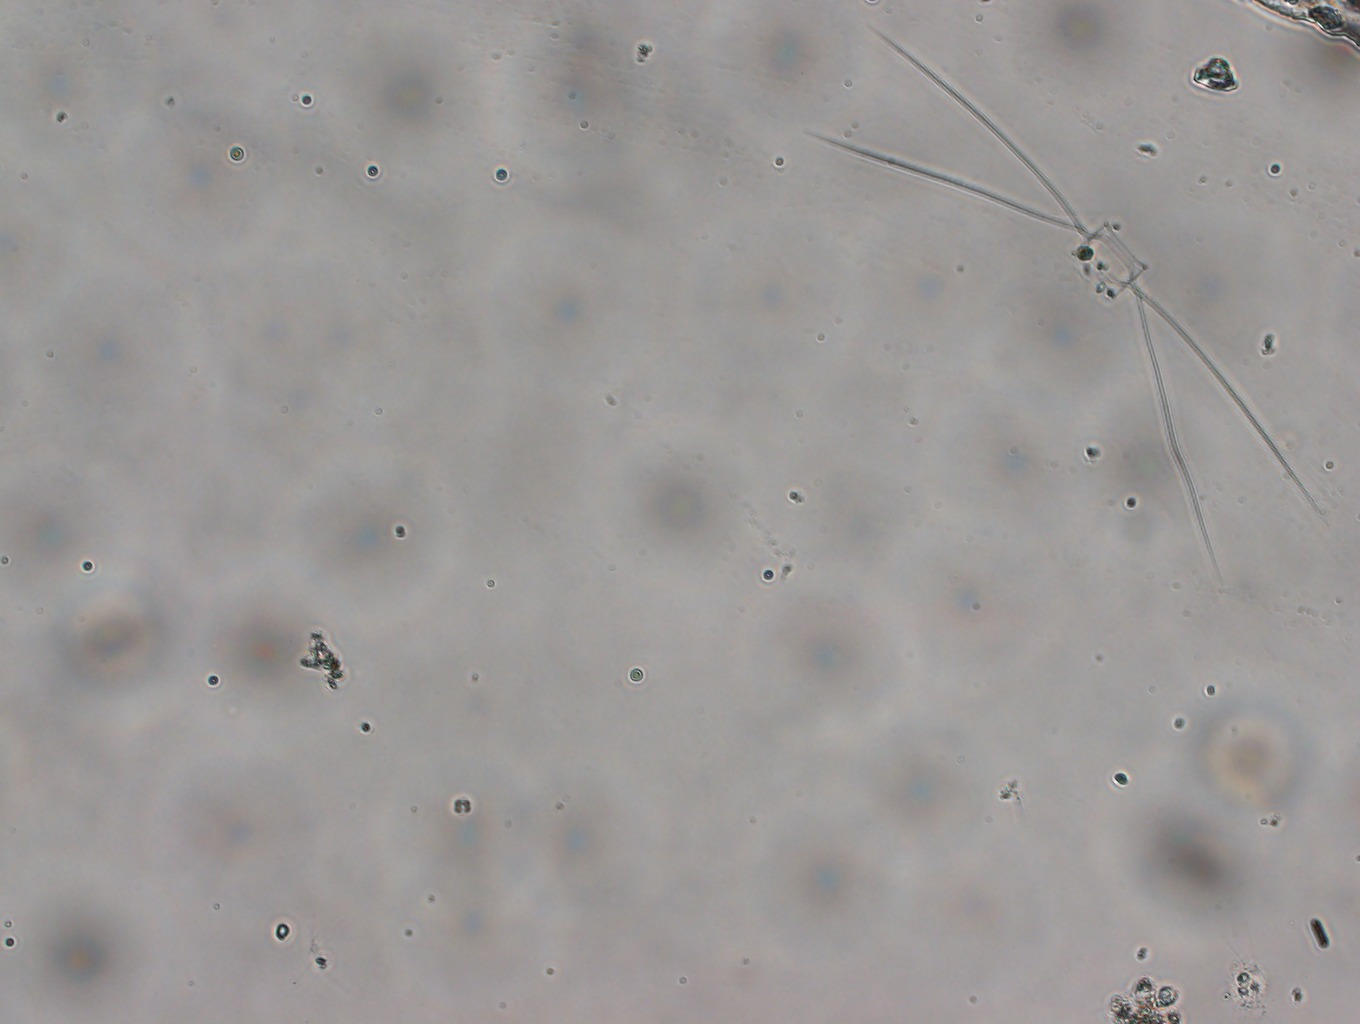chaetoceros: (799, 18, 1328, 587)
